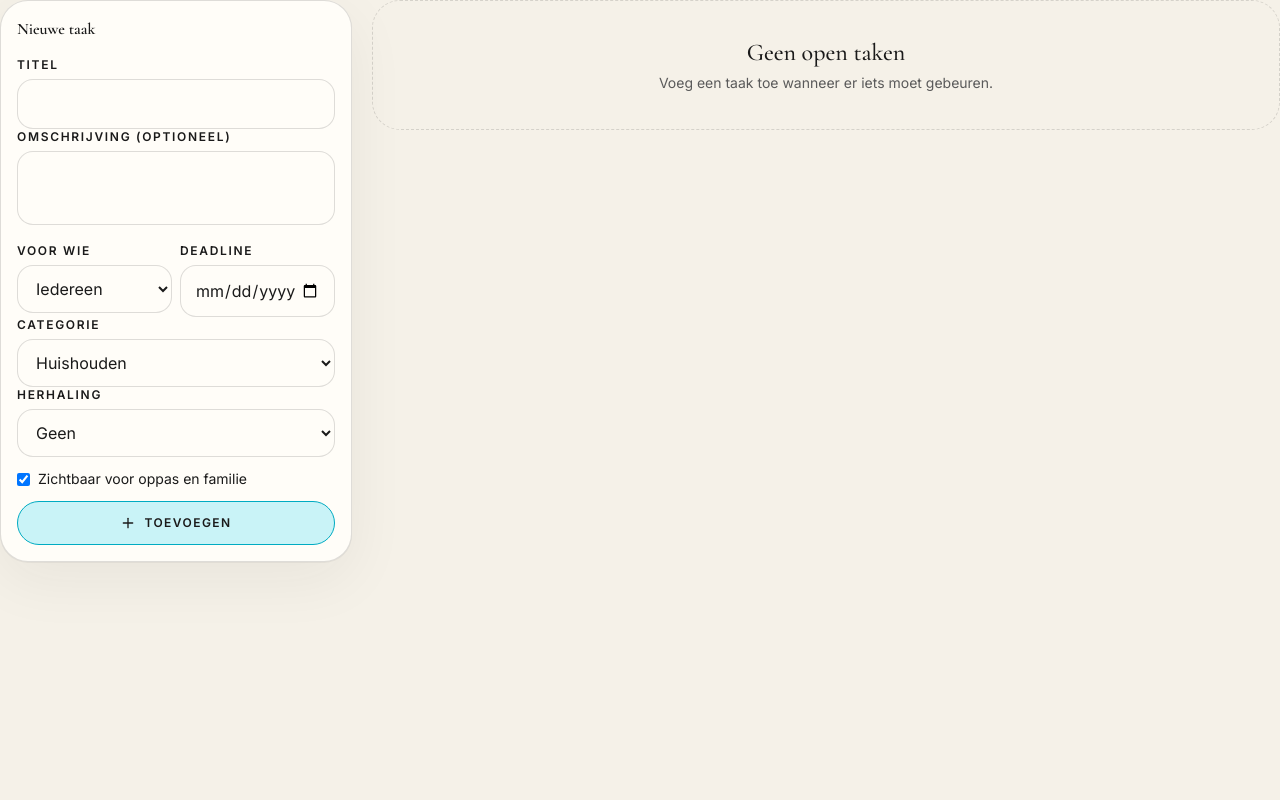
Test: TaskPanel › vereist een gekozen dag voor een weekdagherhaling
Type "Water geven" into the field labelled "Titel" at (176, 104), box [17,79,335,129]
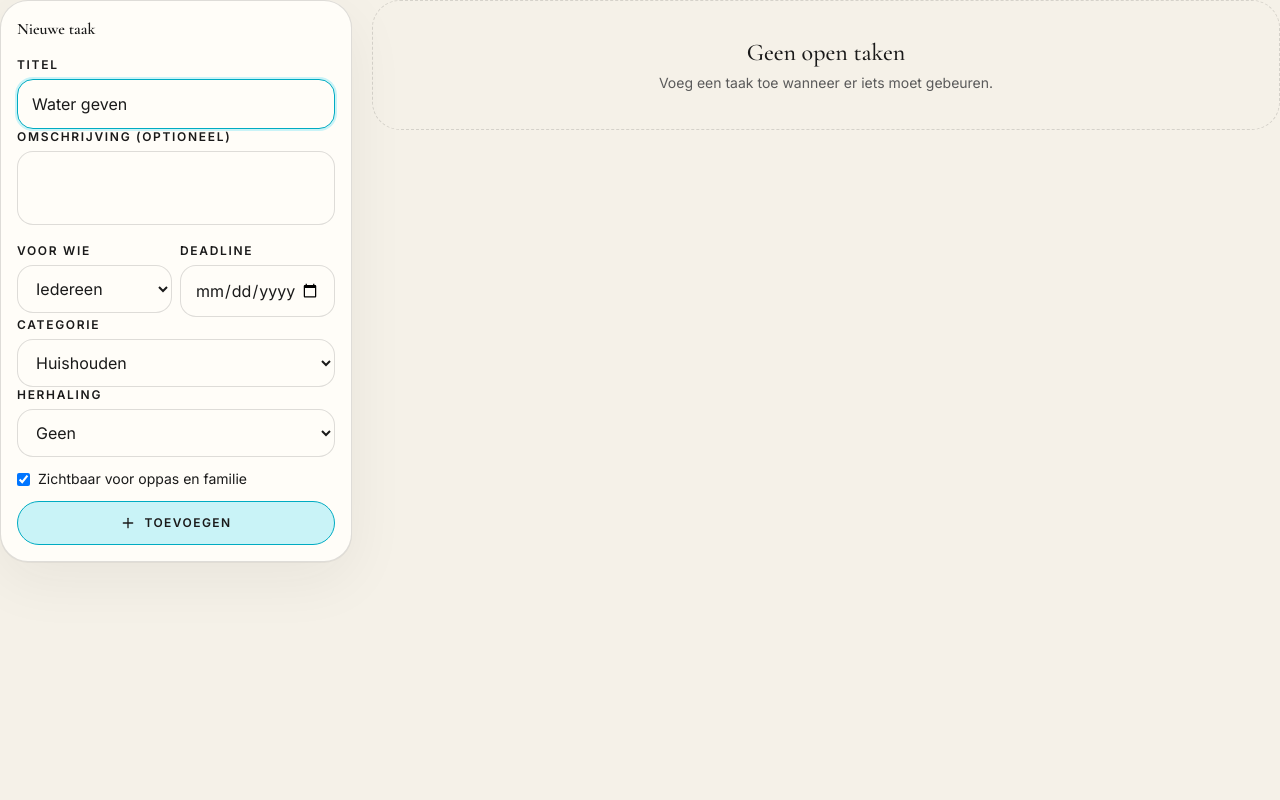
Select "Vaste weekdagen" in the dropdown labelled "Herhaling" at (176, 433), box [17,409,335,457]
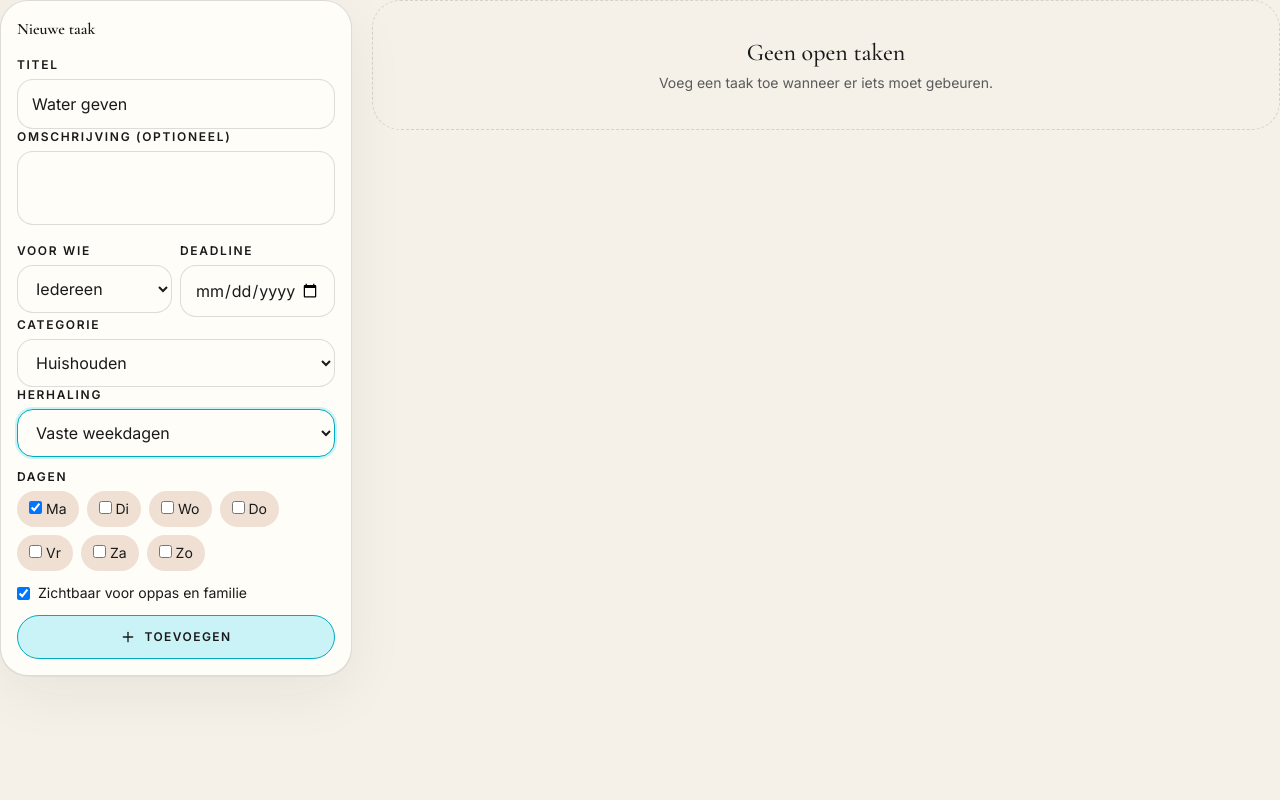
Click the checkbox labelled "Ma" at (36, 508), box [29,501,42,514]
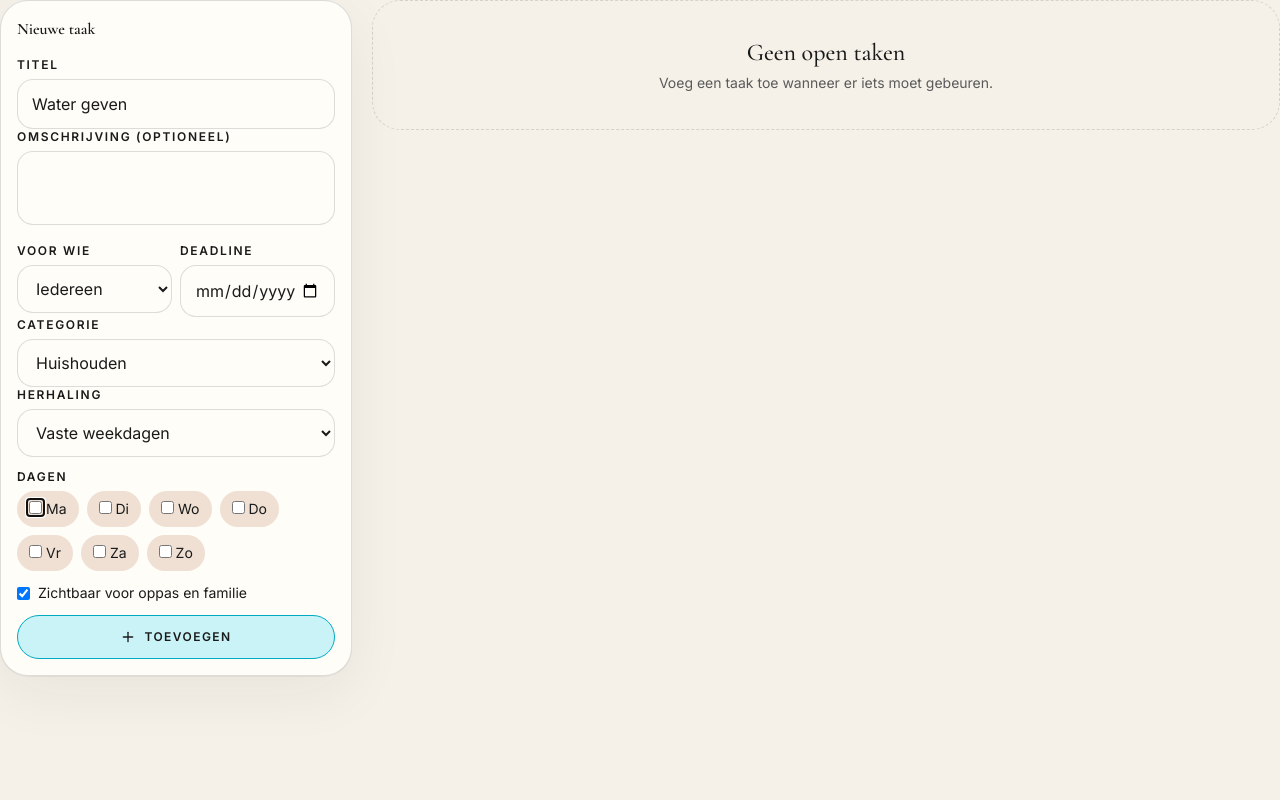
Click the button "Toevoegen" at (176, 637), box [17,615,335,659]
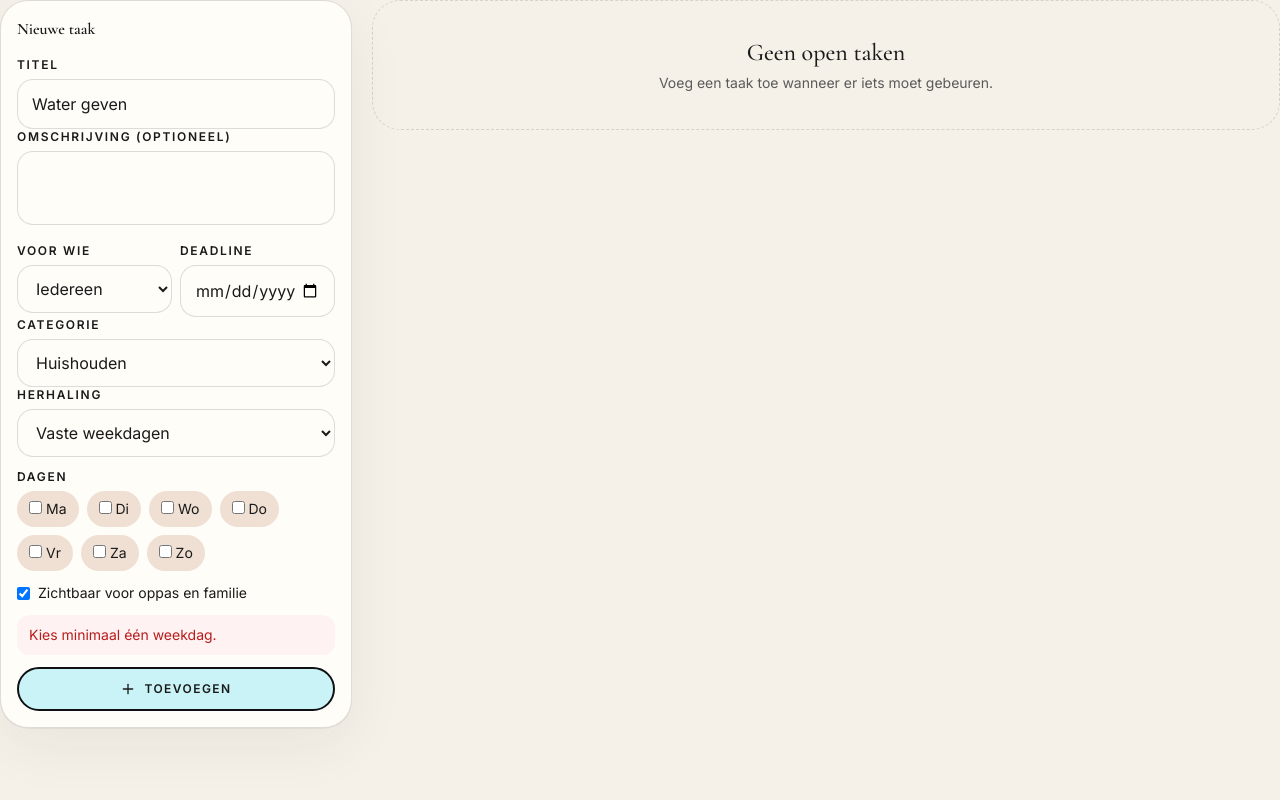
Expected: the text "Kies minimaal één weekdag." is shown, [17,615,335,655]
